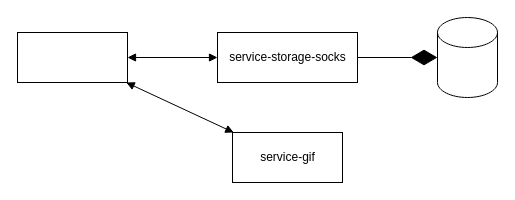
Some shapes in this 515 by 200 pixel diagram are drawn without their labels. Each missing label, with the box of its shape:
BD: (436, 16, 498, 98)
Meta: (16, 32, 128, 82)
